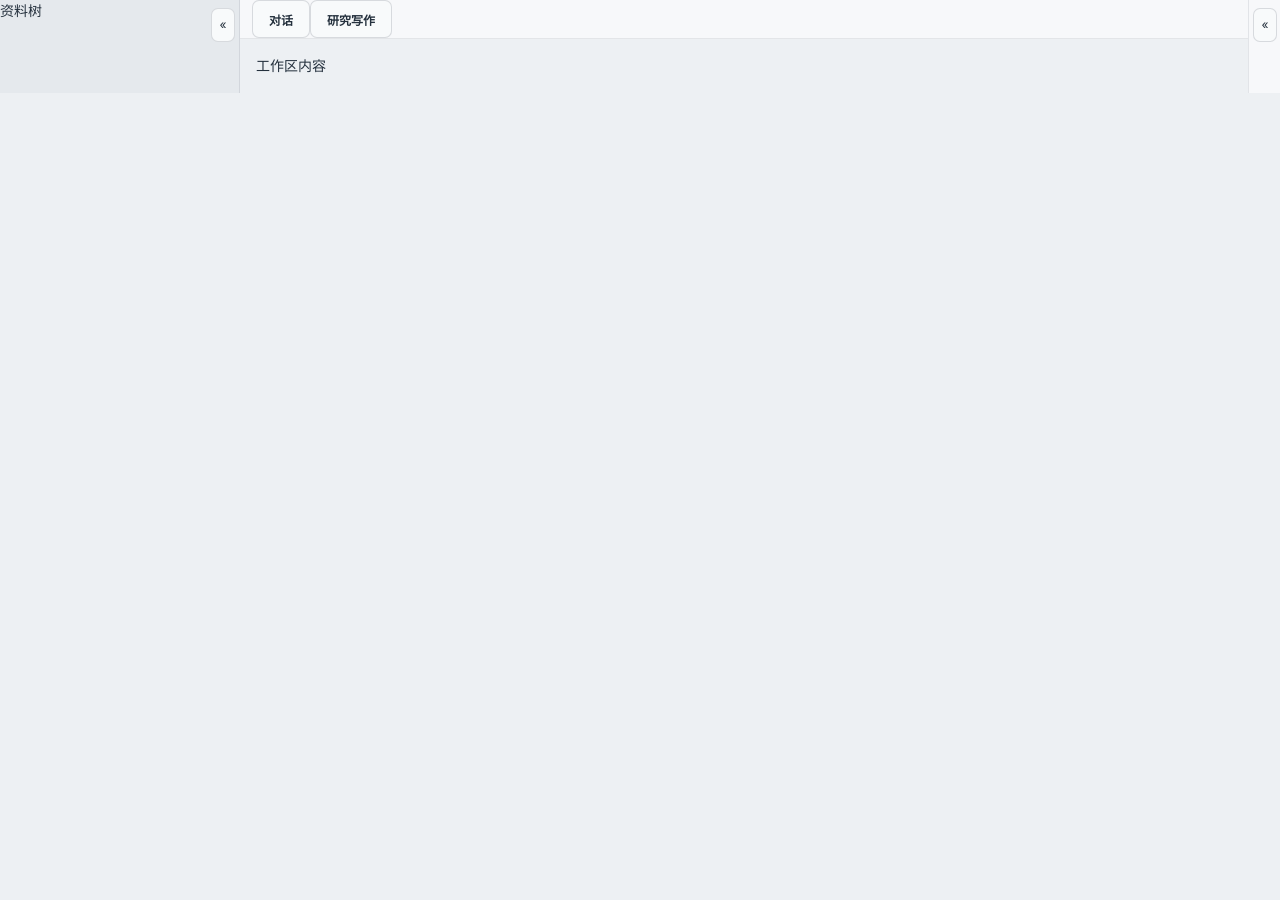
Test: METIS-501 ProjectShell — collapse behavior › reopens a responsive panel as an overlay without expanding its grid track
Click the button named "展开检查器" at (1265, 25), box [1253, 8, 1277, 42]
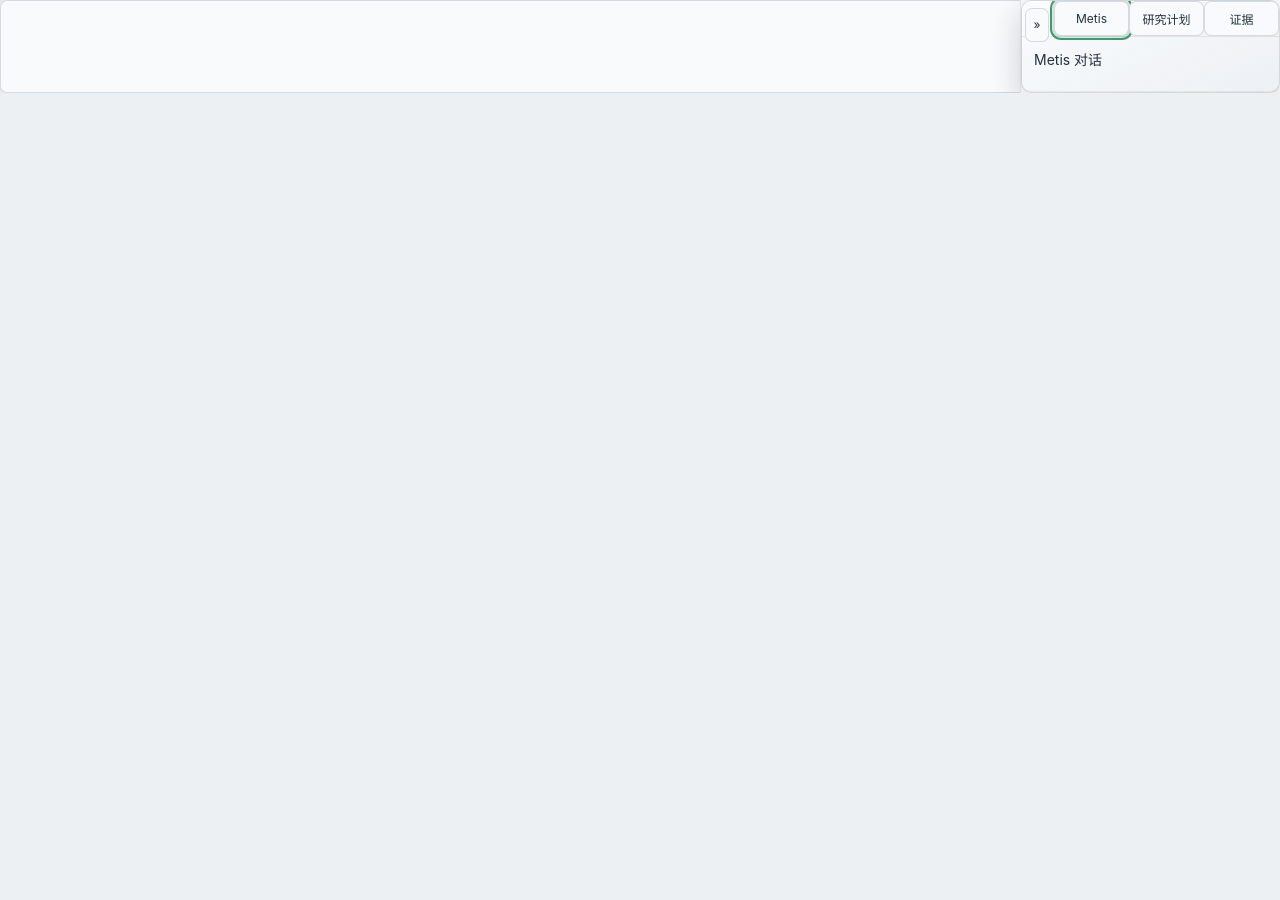
Check: the button named "收起检查器" is expanded, box [1025, 8, 1049, 42]
Check: the text "Metis 对话" is shown, box [1034, 51, 1102, 68]
